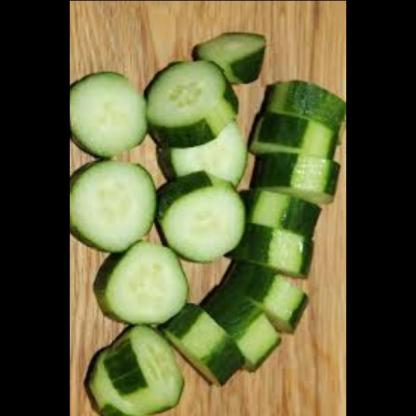cucumber: (240, 186, 329, 323), (251, 87, 347, 202), (141, 52, 244, 149), (175, 288, 278, 384), (87, 324, 192, 416), (95, 242, 203, 326), (70, 160, 163, 252), (158, 173, 250, 264), (70, 73, 157, 162), (160, 110, 255, 191), (192, 25, 272, 89)
